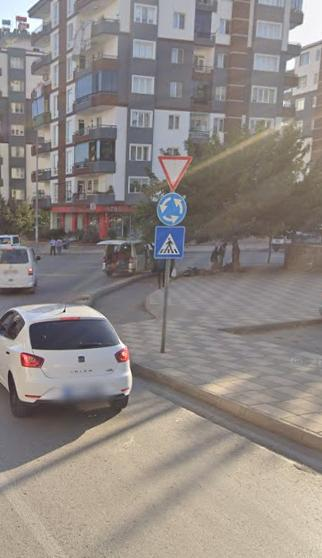crossroads: (157, 191, 186, 226)
